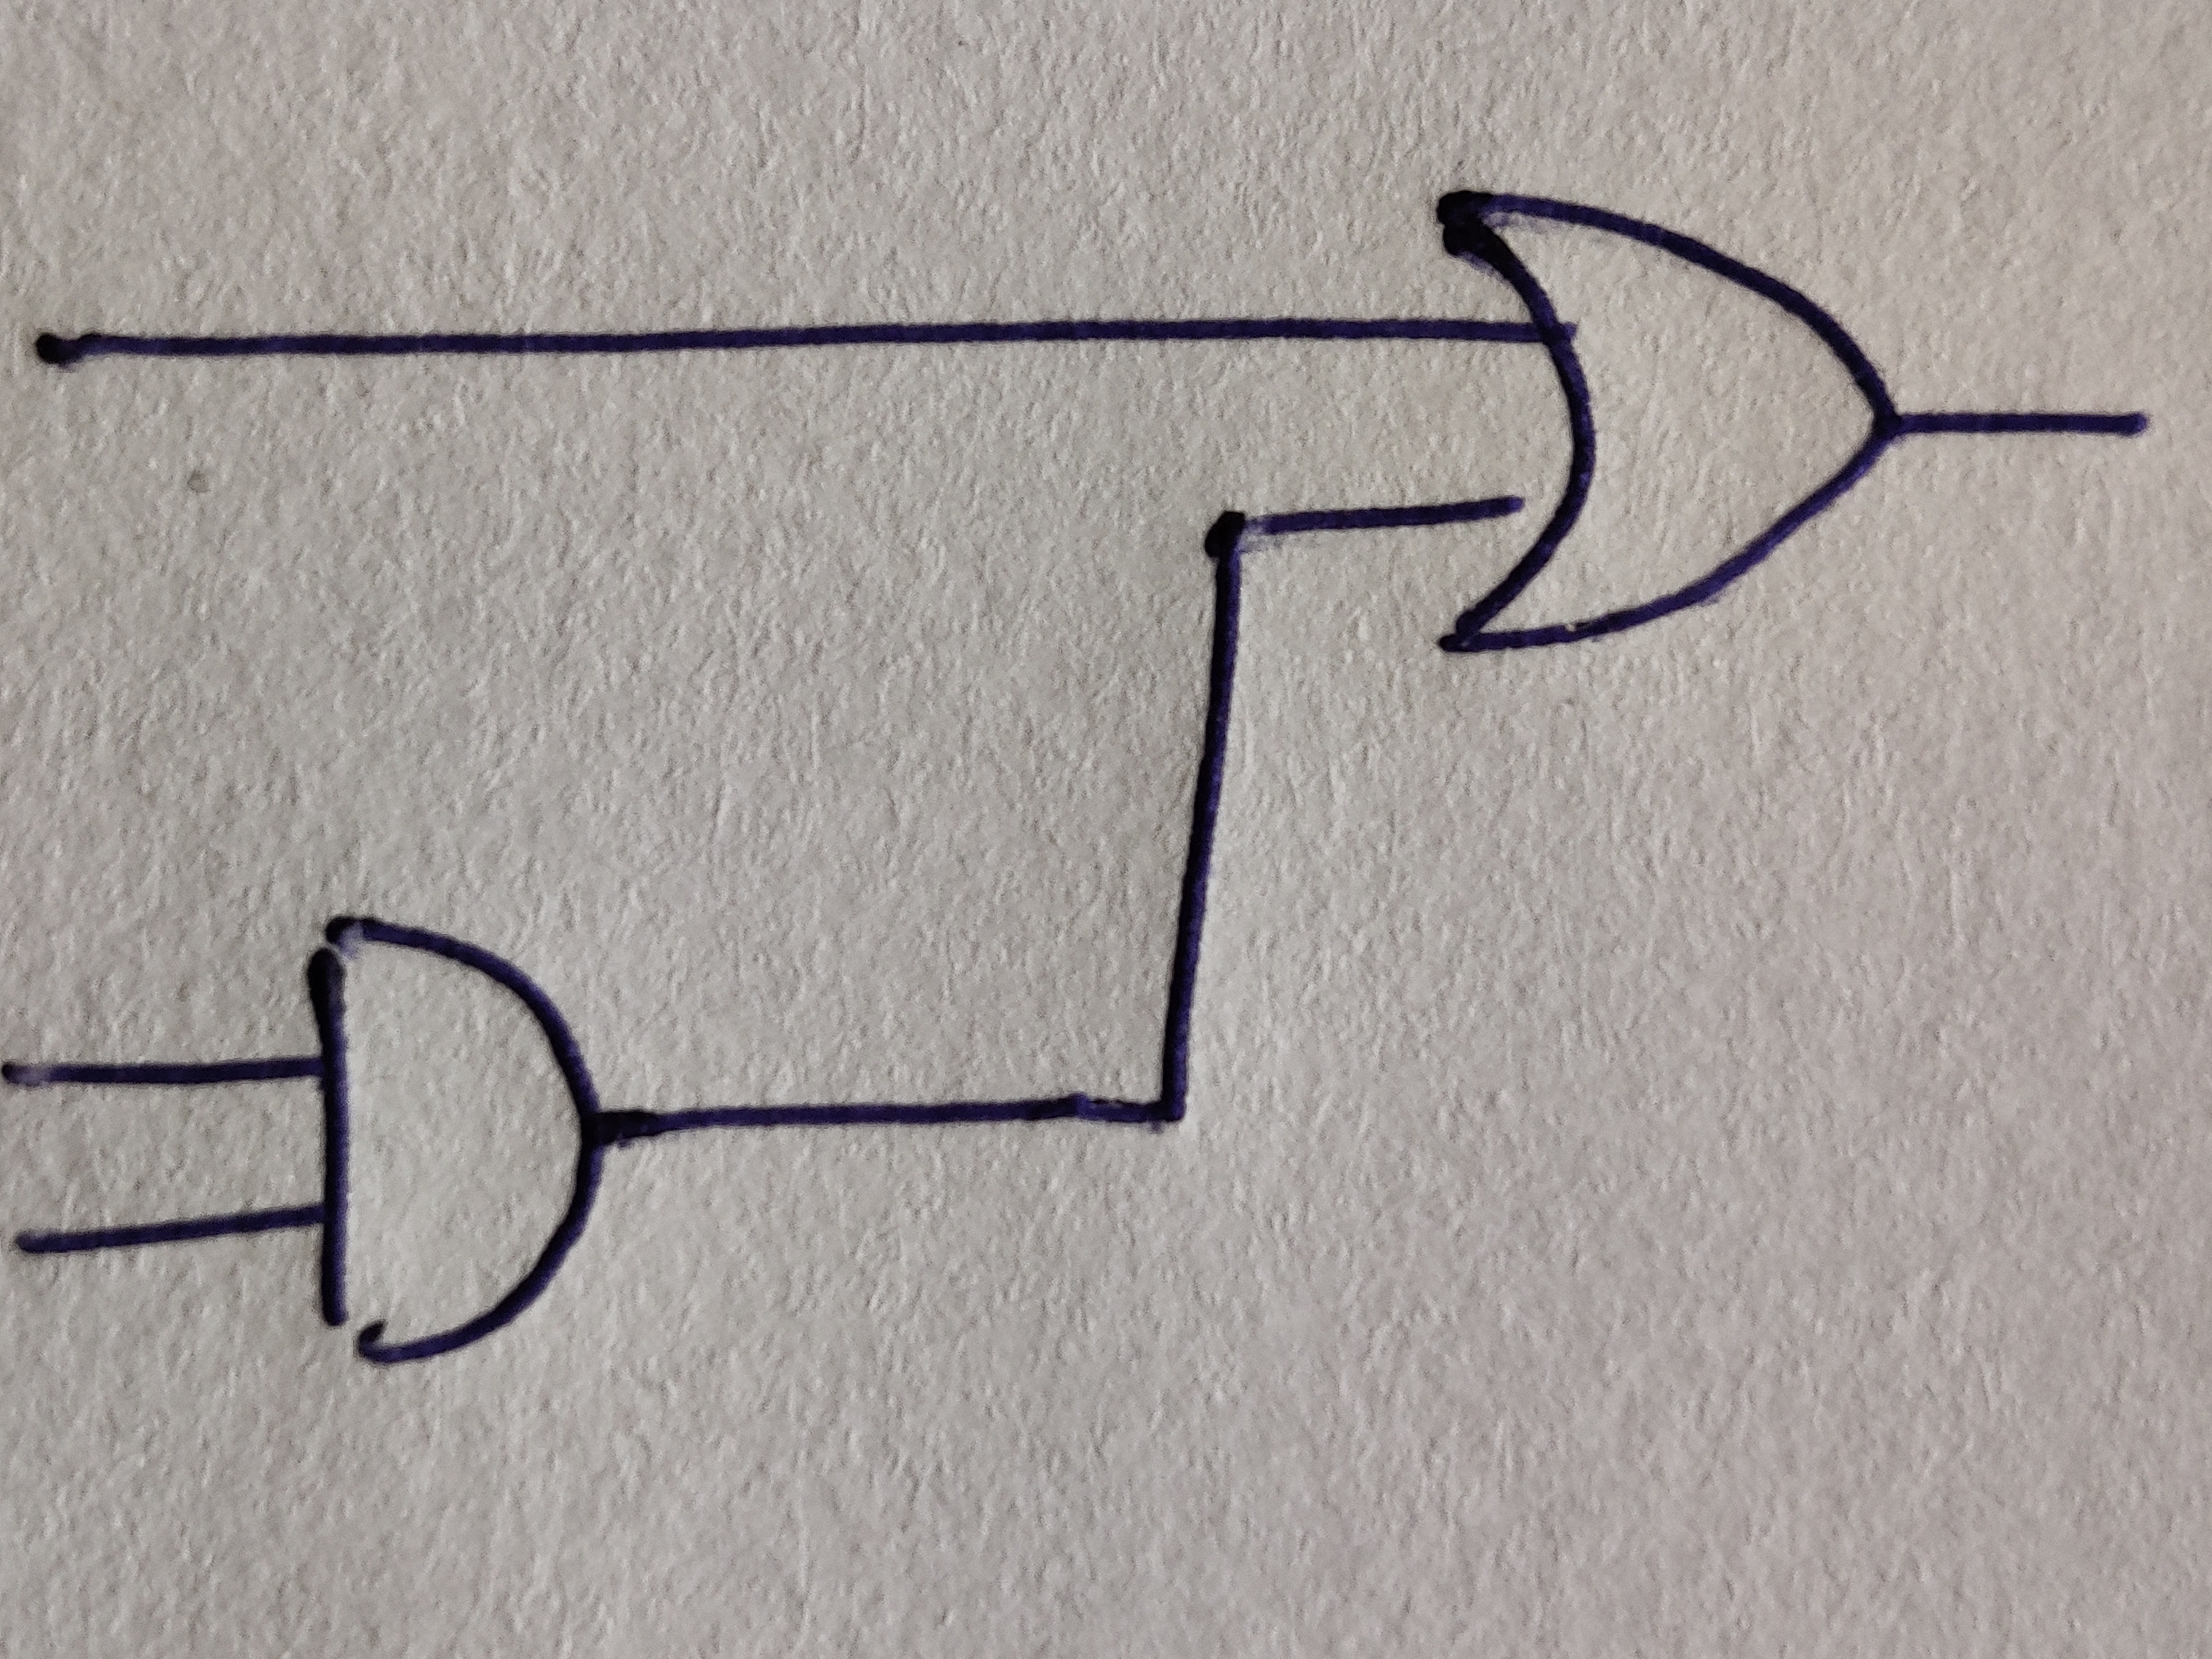and: (307, 917, 603, 1364)
or: (1439, 193, 1898, 655)
